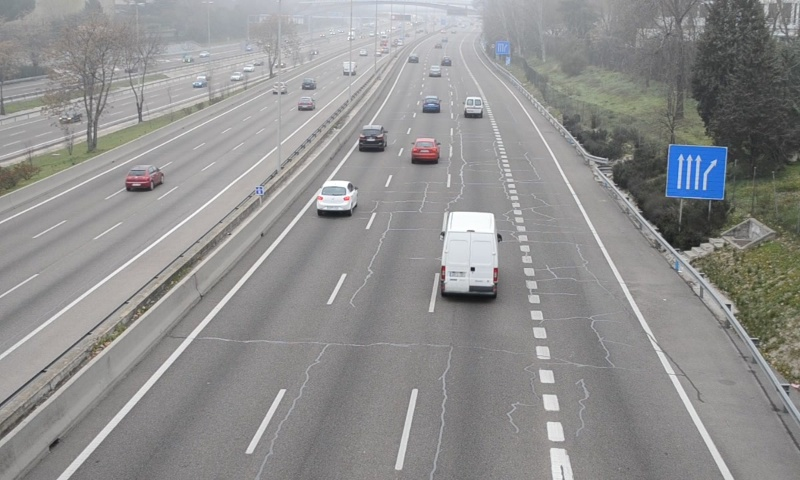car: (315, 181, 358, 212), (358, 124, 386, 151), (411, 137, 439, 163), (421, 95, 441, 114)
van: (442, 211, 498, 298), (463, 95, 484, 120)
